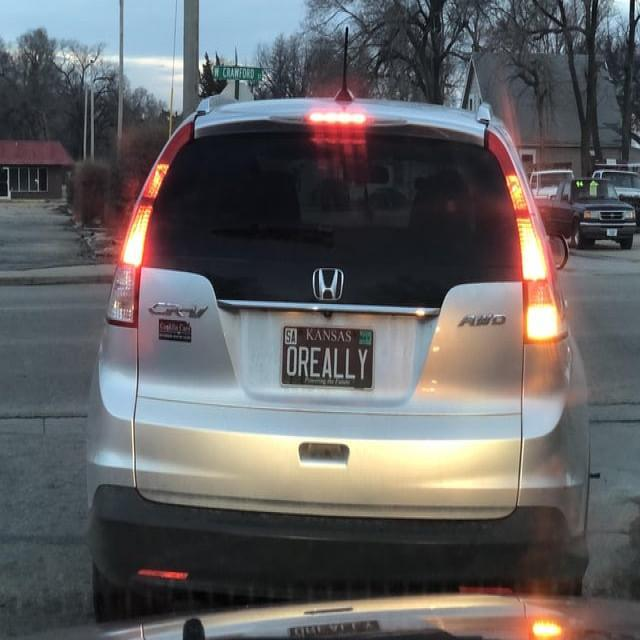Plat: (279, 323, 376, 391)
